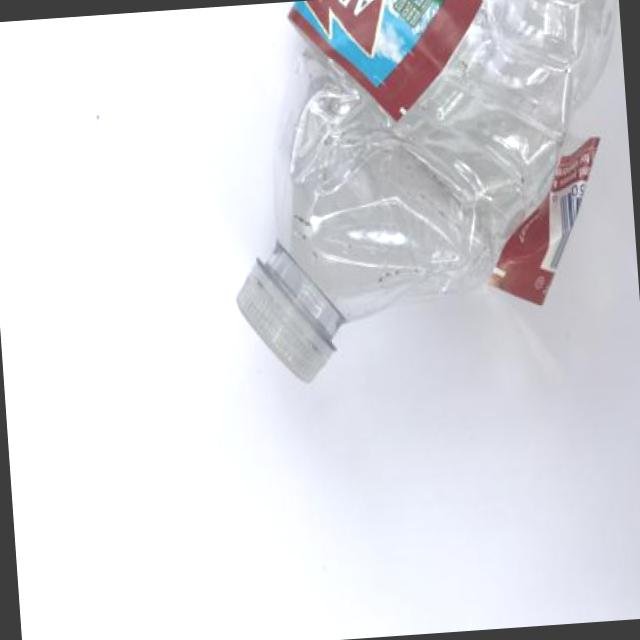Recycle: (216, 0, 640, 389)
